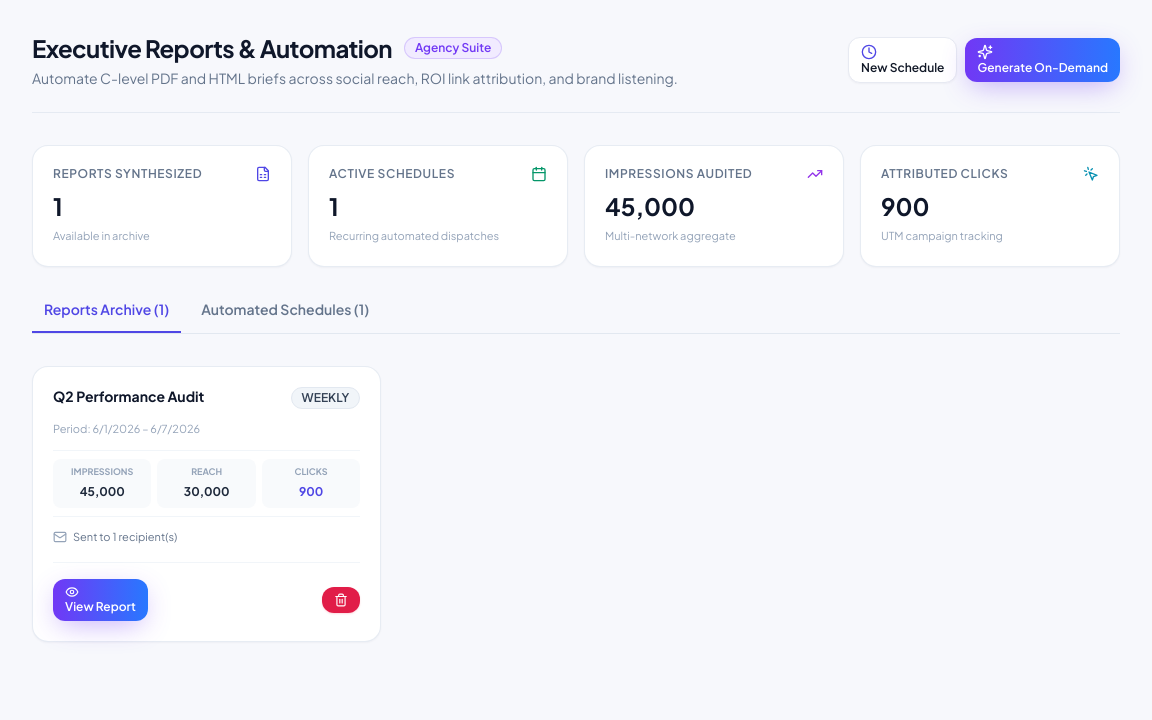
Phase 19: White-Label and Executive Reports Components › ExecutiveReportsPage › should switch to schedules tab and list schedules
Click the button "Automated Schedules (1)" at (285, 316), box [189,299,381,333]
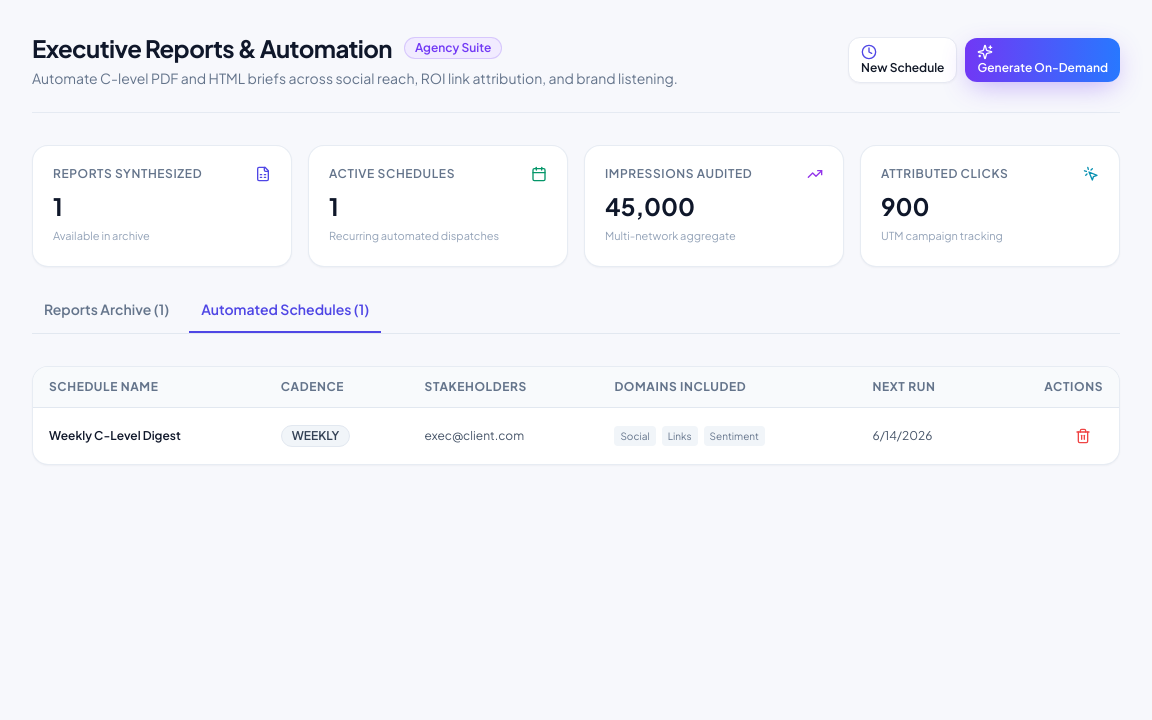
Check: the text "Weekly C-Level Digest" is shown, box [33,408,265,464]
Check: the text "exec@client.com" is shown, box [408,408,598,464]
